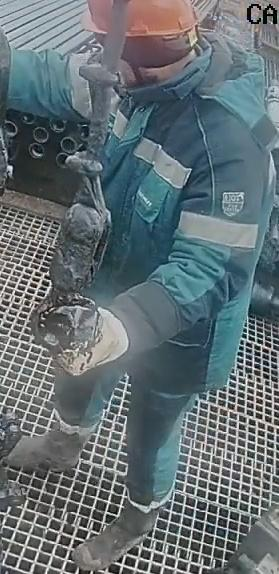gloves: (48, 295, 129, 377)
helmet: (79, 0, 200, 53)
vest: (70, 51, 255, 394)
